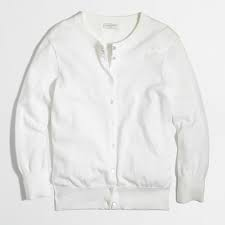S_cardigan sweater: (18, 20, 212, 218)
